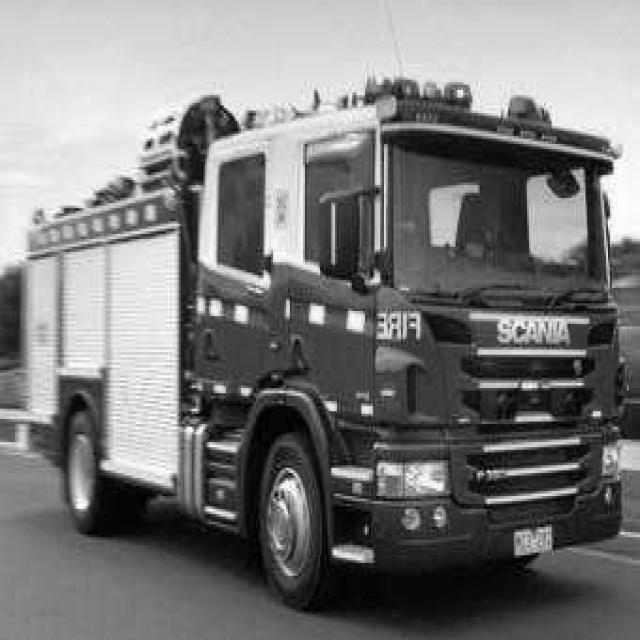Truck: (26, 77, 625, 607)
